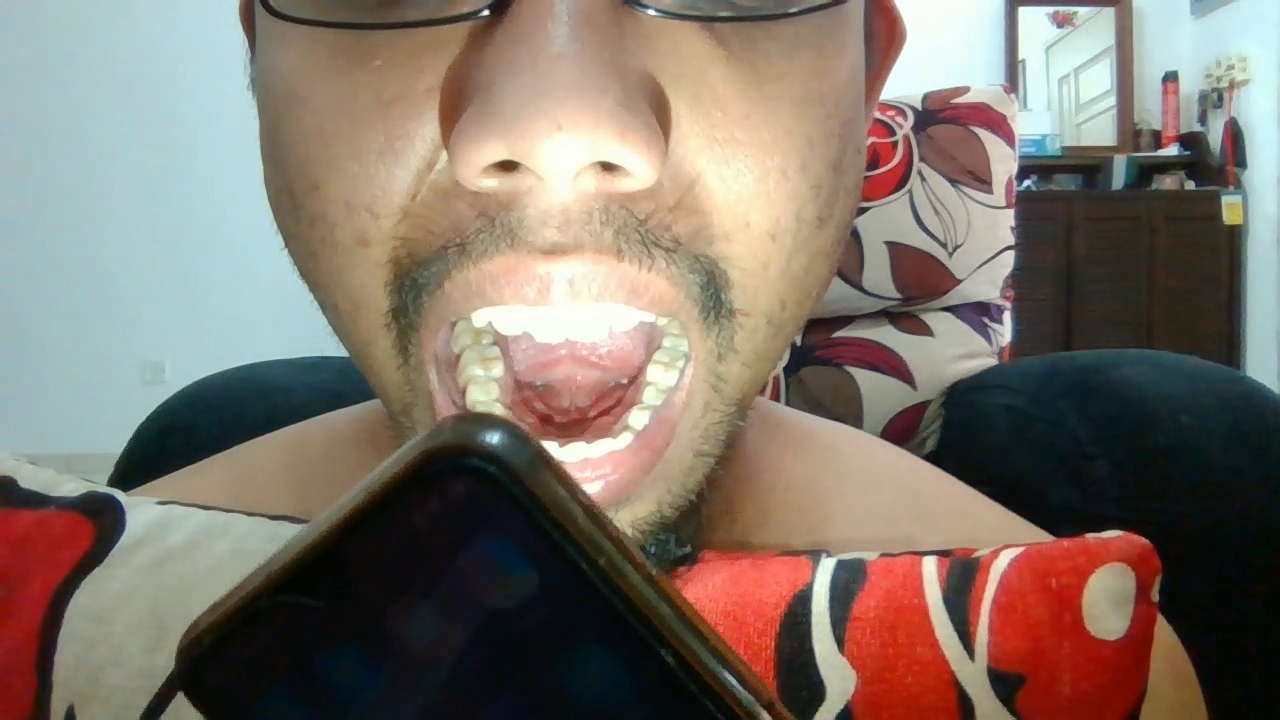1st Molar: (457, 345, 506, 378), (646, 350, 689, 385)
1st Premolar: (627, 405, 658, 429)
2nd Molar: (449, 320, 493, 345)
2nd Premolar: (463, 377, 500, 403), (642, 384, 672, 405)
Canine: (470, 307, 490, 328), (616, 429, 634, 451), (640, 308, 657, 326)
Central Incisor: (567, 302, 610, 342), (526, 304, 567, 344), (561, 441, 588, 461), (540, 440, 561, 460)
Lateral Incisor: (490, 305, 526, 336), (610, 303, 640, 333), (588, 437, 616, 459)
